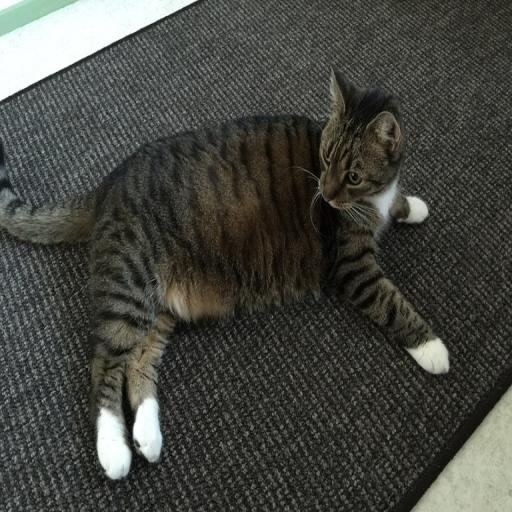cat: (0, 67, 449, 479)
